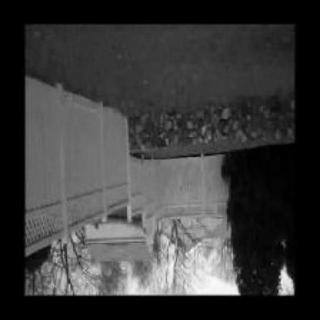other: (195, 240, 232, 288)
